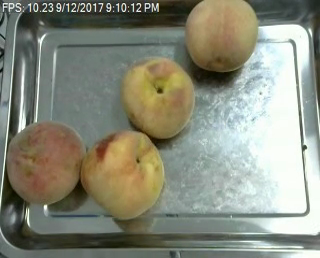Peach: (79, 126, 164, 220), (6, 119, 84, 204), (120, 56, 195, 138), (183, 0, 258, 72)
